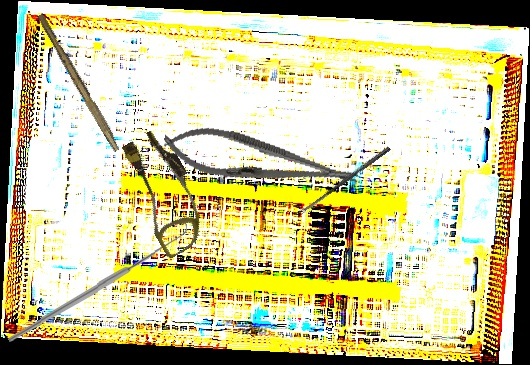Cannula: (108, 125, 221, 260)
Hook Surgical: (6, 220, 189, 344)
Needle Holder: (159, 118, 362, 203)
Scalpel Handle: (34, 12, 124, 153)
Surgical Spoon: (298, 145, 391, 216)
